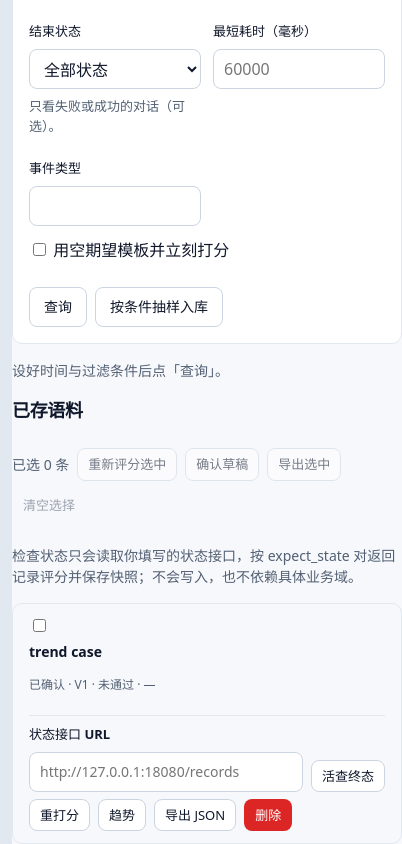
Test: EvalSettings trend and batch actions › narrows the score trend to a day range
(page scrolled)
Click the button "趋势".
click(122, 815)  # box x1=98 y1=799 x2=146 y2=831
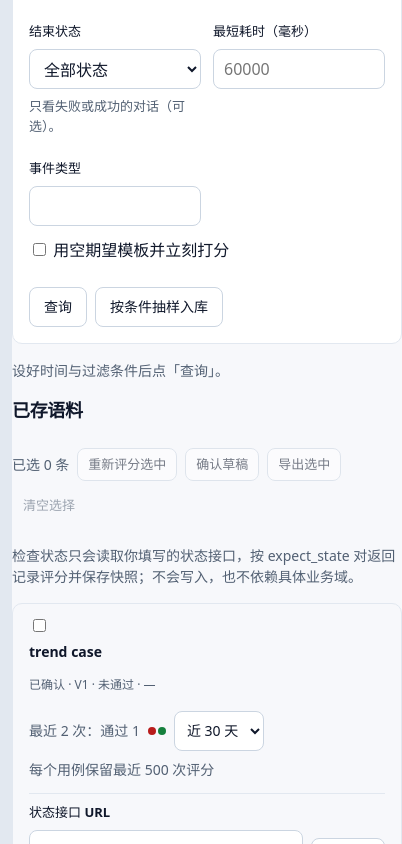
expect the element with test id "eval-trend-ec_trend" shows "每个用例保留最近 500 次评分": met, box x1=29 y1=760 x2=214 y2=779
expect the dropdown with test id "eval-trend-range-ec_trend" is shown: met
Select "近 30 天" in the dropdown with test id "eval-trend-range-ec_trend" at (219, 731), box x1=174 y1=711 x2=264 y2=751
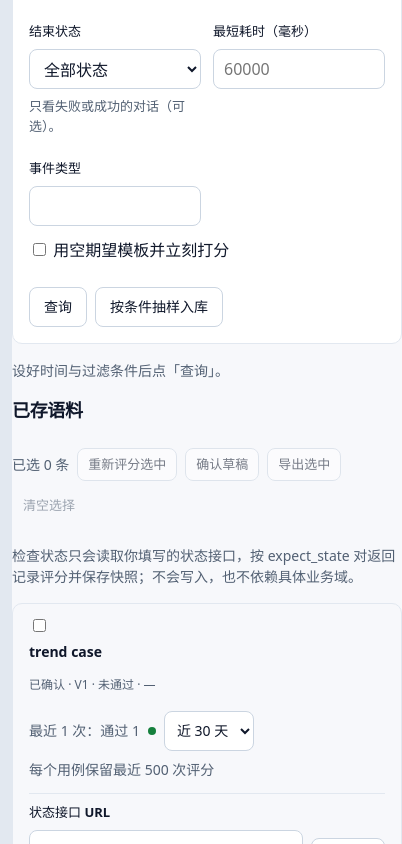
expect the element with test id "eval-trend-ec_trend" shows "最近 1 次：通过 1": met, box x1=29 y1=721 x2=140 y2=740
